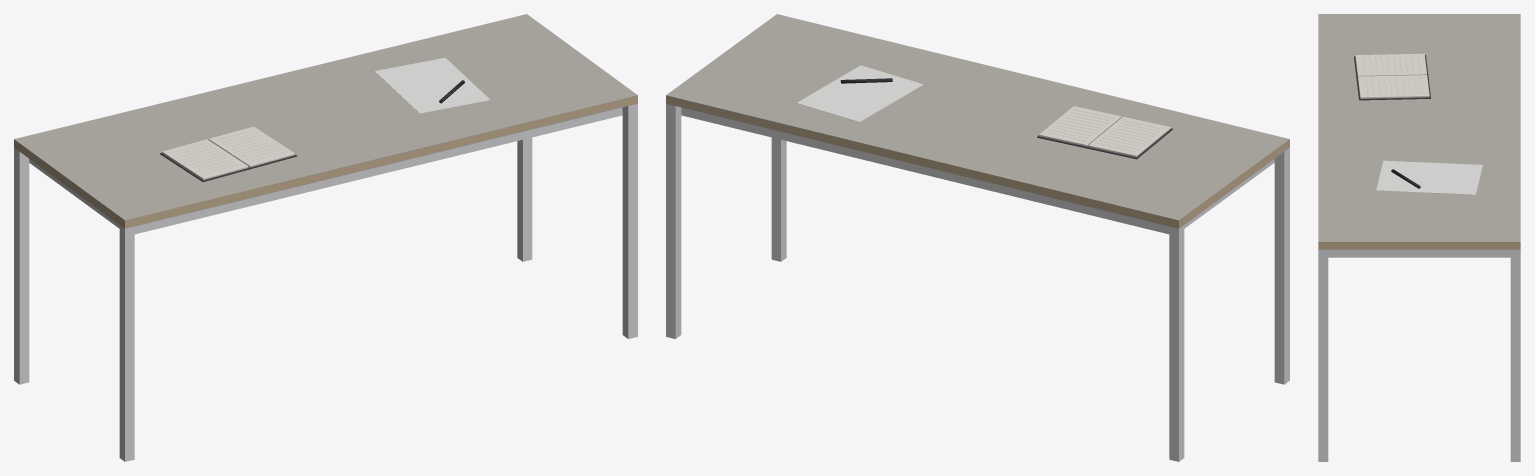
File: 001_desk_big_final.glb
3 renders of one model, left to right at view 1: azimuth 30°, elevation 25°; view 2: azimuth 150°, elevation 25°; view 3: azimuth 270°, elevation 25°, orthographic. The views are drawn at different scales.
Visible parts, largest first — view 1: SkinTop, Ply, FrameLong, Leg, Leg.002, Leg.001, A4, Leg.003, NotePages, NotePages.001, SkinBottom; view 2: SkinTop, Ply, FrameLong.001, Leg.001, Leg.003, Leg, A4, Leg.002, NotePages, NotePages.001, SkinBottom; view 3: SkinTop, A4, Leg.002, Leg.003, Ply, NotePages.001, FrameShort.001, NotePages, NoteCover.
Boxes of the visible parts, bbox=[...] form: SkinTop: bbox=[14, 14, 637, 220]; Ply: bbox=[14, 95, 637, 228]; FrameLong: bbox=[134, 109, 616, 234]; Leg: bbox=[119, 225, 134, 461]; Leg.002: bbox=[622, 103, 637, 338]; Leg.001: bbox=[14, 148, 29, 384]; A4: bbox=[374, 57, 490, 113]; Leg.003: bbox=[517, 137, 532, 261]; NotePages: bbox=[162, 139, 248, 180]; NotePages.001: bbox=[209, 126, 295, 167]; SkinBottom: bbox=[14, 103, 637, 228]; SkinTop: bbox=[666, 14, 1289, 220]; Ply: bbox=[666, 95, 1289, 228]; FrameLong.001: bbox=[687, 109, 1168, 233]; Leg.001: bbox=[1169, 225, 1184, 461]; Leg.003: bbox=[666, 103, 681, 338]; Leg: bbox=[1274, 148, 1289, 384]; A4: bbox=[797, 65, 923, 122]; Leg.002: bbox=[771, 137, 786, 261]; NotePages: bbox=[1088, 116, 1170, 157]; NotePages.001: bbox=[1039, 106, 1121, 146]; SkinBottom: bbox=[666, 103, 1289, 228]; SkinTop: bbox=[1318, 14, 1520, 242]; A4: bbox=[1376, 160, 1482, 194]; Leg.002: bbox=[1318, 249, 1328, 461]; Leg.003: bbox=[1510, 249, 1520, 461]; Ply: bbox=[1318, 242, 1520, 249]; NotePages.001: bbox=[1358, 75, 1429, 98]; FrameShort.001: bbox=[1328, 249, 1510, 257]; NotePages: bbox=[1355, 53, 1426, 76]; NoteCover: bbox=[1354, 55, 1430, 100].
Size of the model in its own units: 1.6 by 0.7306 by 0.6.
